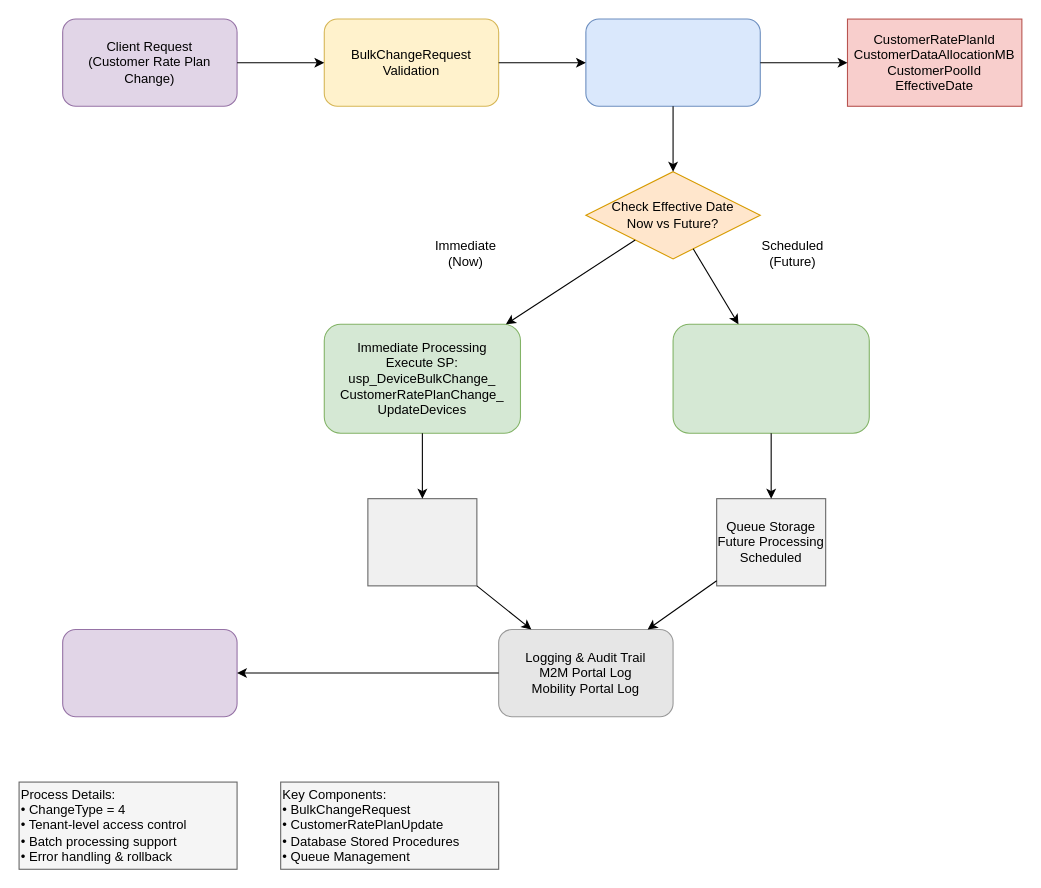
Image size: 1041x888. Some labels were removed from this diagram. Here are the shapes that lost their labels. From the top down, the centre of each, then its label:
[672,62]: Extract Customer Rate Plan Update
[770,378]: Scheduled Processing Add to Queue: CustomerRatePlan DeviceQueue Table
[422,542]: Database Update Device Records Updated
[149,672]: Response Success/Error Status
